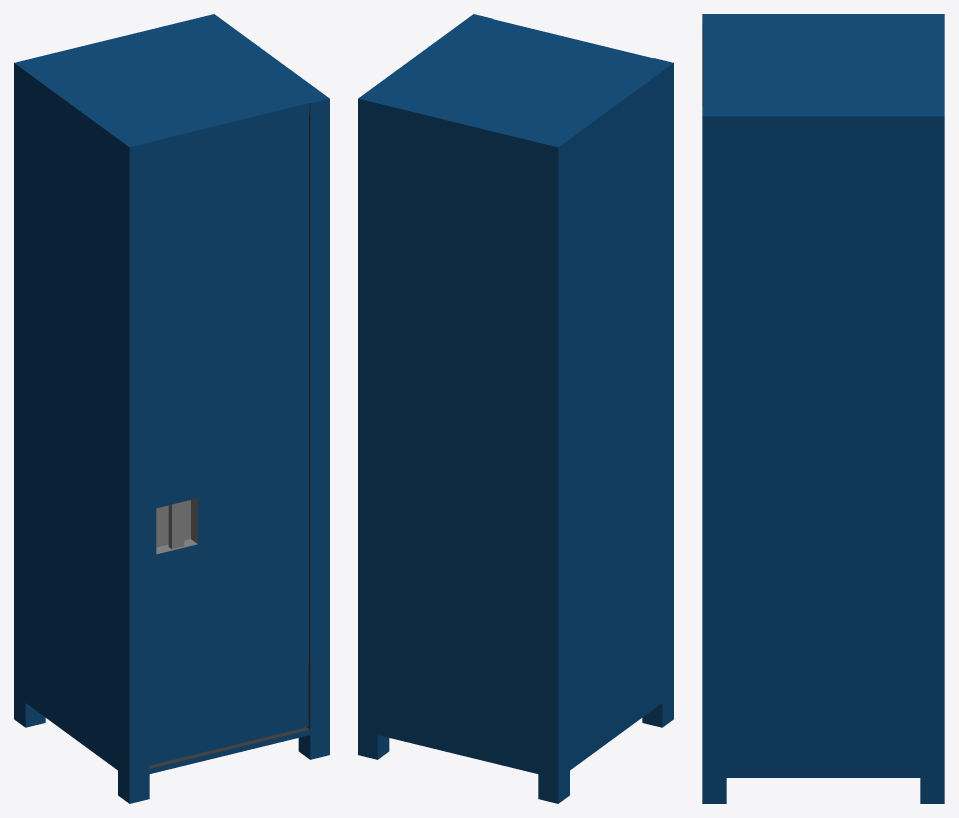
Rendered from locker.fbx.
The picture shows the model from 3 angles, left to right: view 1: azimuth 30°, elevation 25°; view 2: azimuth 150°, elevation 25°; view 3: azimuth 270°, elevation 25°; orthographic projection. The views are drawn at different scales.
Visible parts, largest first — view 1: Cube, Cube.001; view 2: Cube; view 3: Cube.
Part boxes in pixels (bbox=[...]): Cube: bbox=[14, 14, 329, 803]; Cube.001: bbox=[149, 113, 308, 765]; Cube: bbox=[358, 14, 673, 803]; Cube: bbox=[702, 14, 944, 803].
Bounding box in the file's own units: 200 × 627 × 200.
